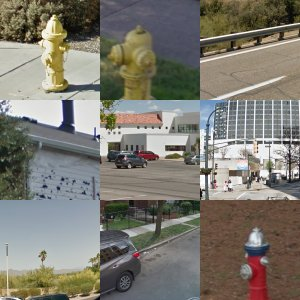汽車: (100, 228, 143, 297), (115, 150, 147, 171)
消防栓: (105, 22, 158, 99), (36, 10, 75, 94), (237, 228, 275, 299)
